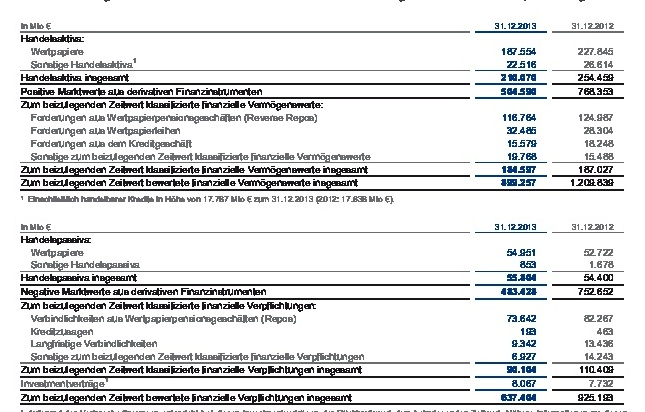table: (0, 0, 645, 412)
